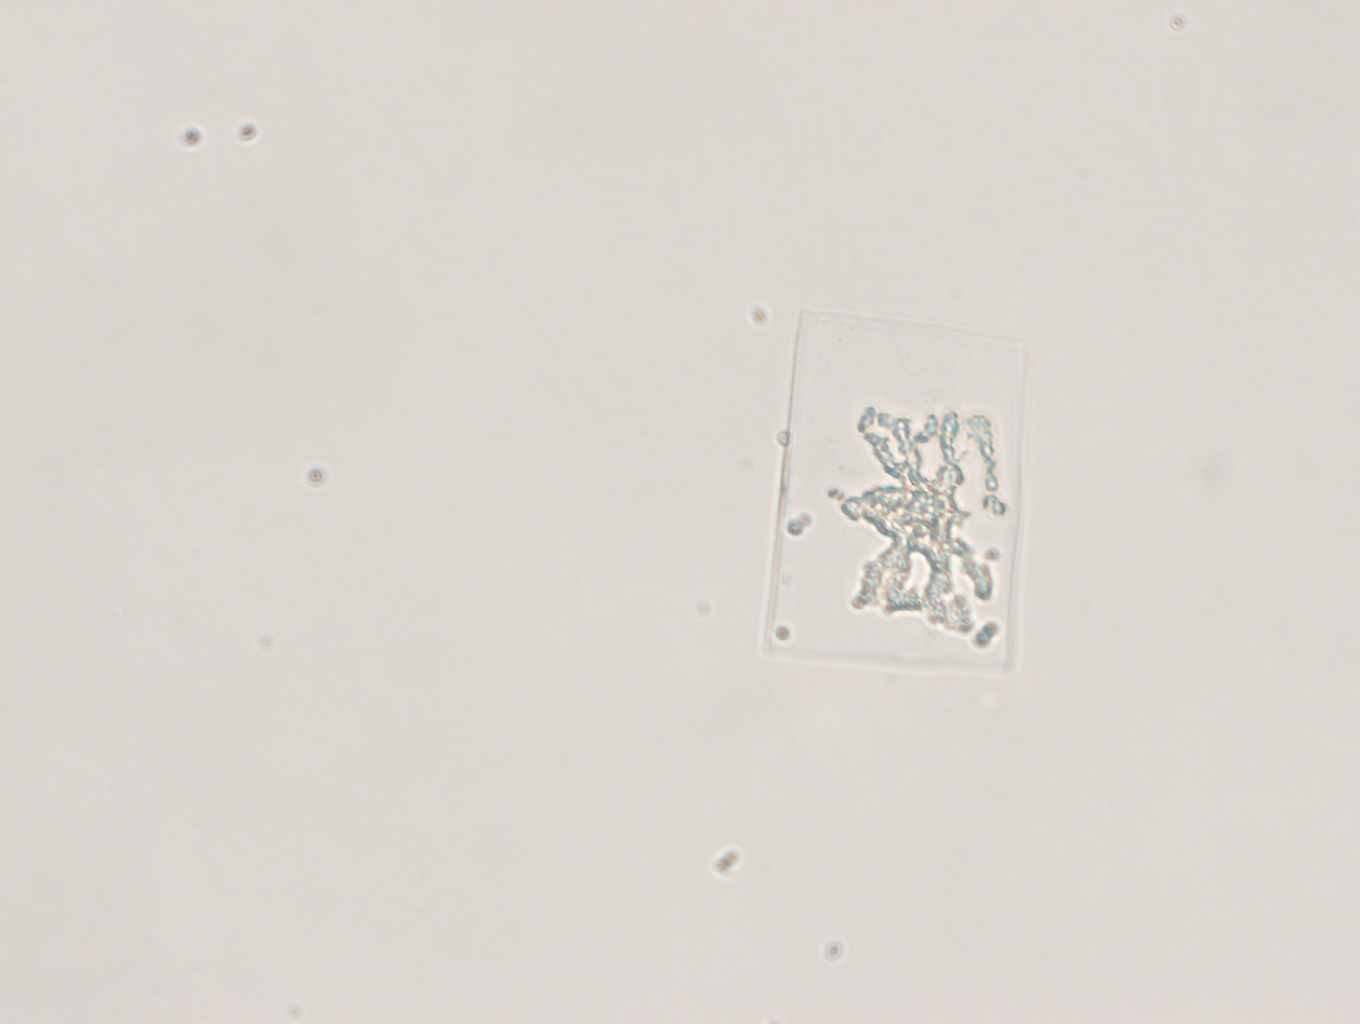guinardia flaccida: (746, 305, 1040, 696)
